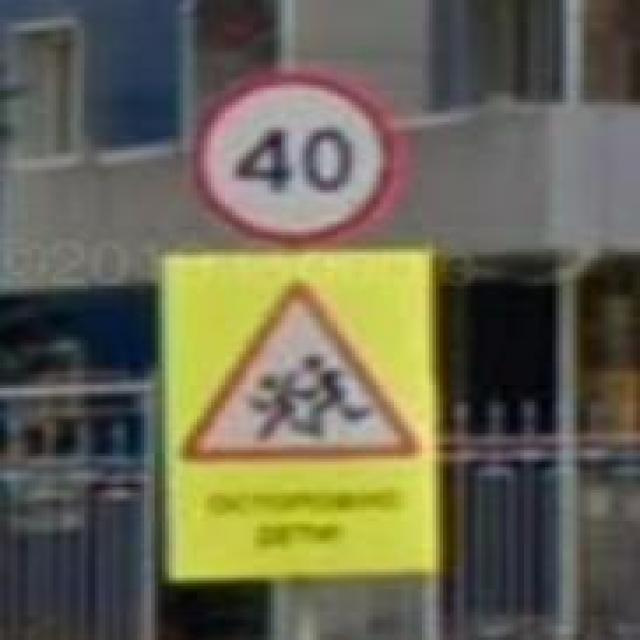traffic_sign: (179, 280, 422, 464), (193, 71, 401, 243)
